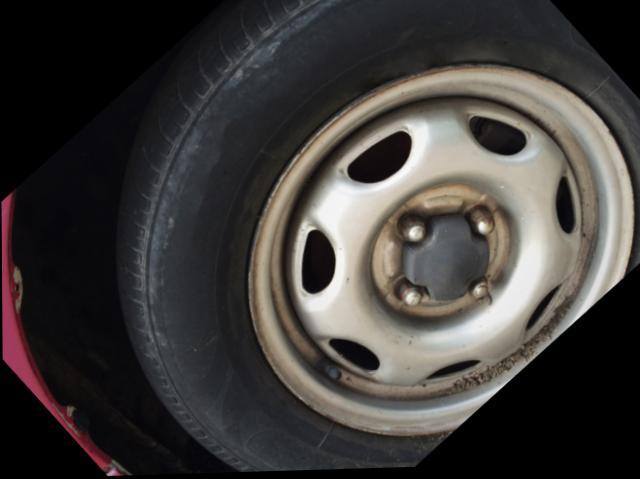tire flat: (111, 0, 640, 474)
